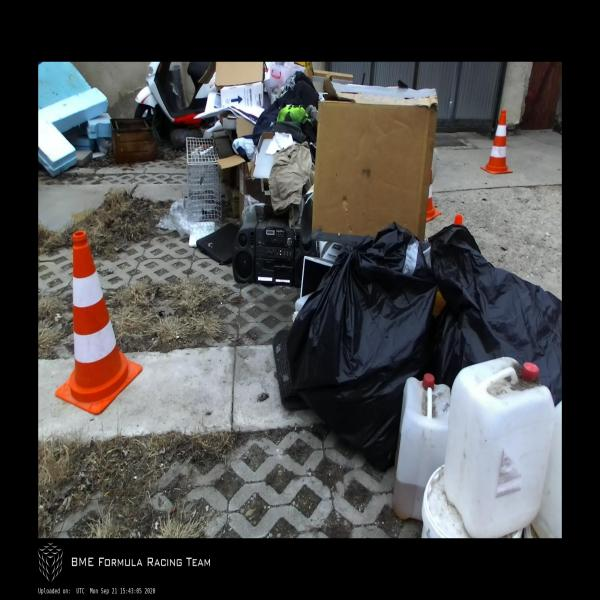large_orange_cone: (53, 232, 142, 414)
orange_cone: (481, 110, 513, 175), (426, 172, 442, 223)
